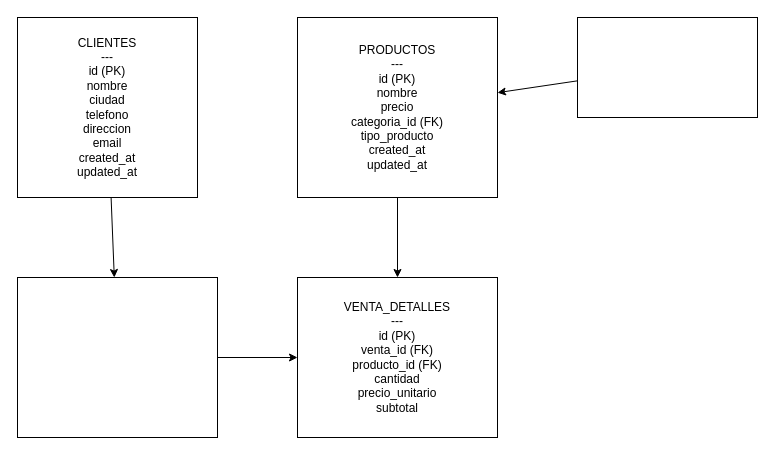
This 775x455 diagram has some shape labels left out. Each missing label, with the centre of its shape:
CATEGORIAS --- id (PK) nombre tipo_producto: point (667, 67)
VENTAS --- id (PK) funda cliente_id (FK) total fecha tipo_producto created_at: point (117, 357)
